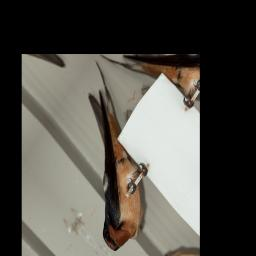Swallow: (29, 61, 183, 256)
